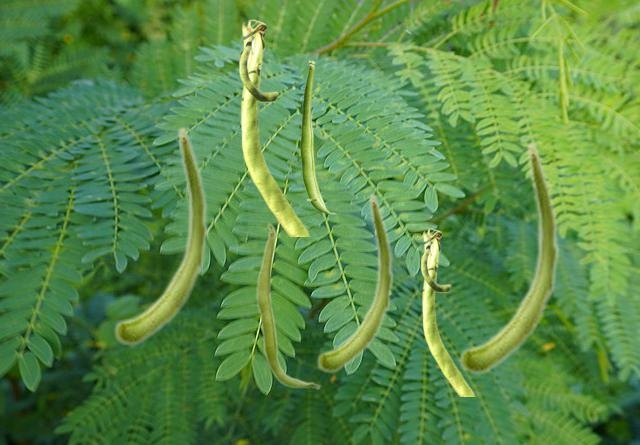french_bean: (458, 141, 559, 374), (113, 125, 208, 345), (238, 19, 309, 235), (316, 192, 393, 372), (255, 222, 320, 389), (420, 228, 474, 395), (300, 60, 336, 213)
